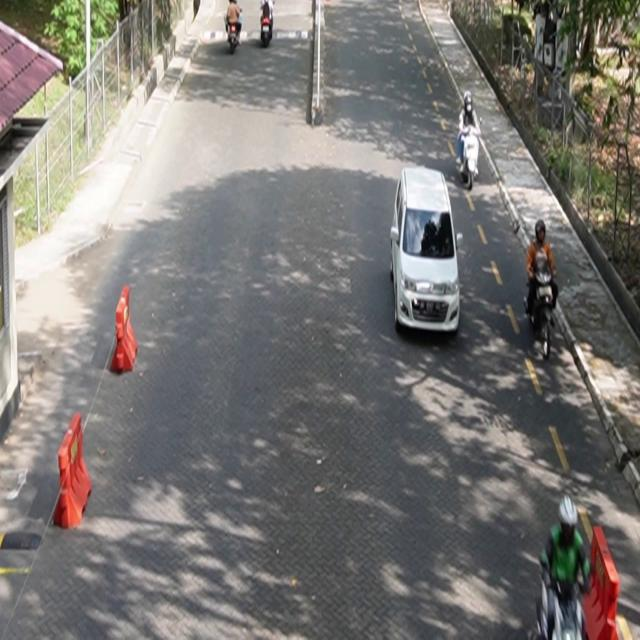car: (390, 166, 464, 336)
